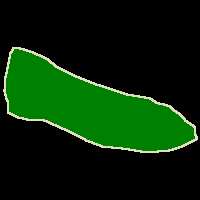shoe: (4, 48, 197, 152)
